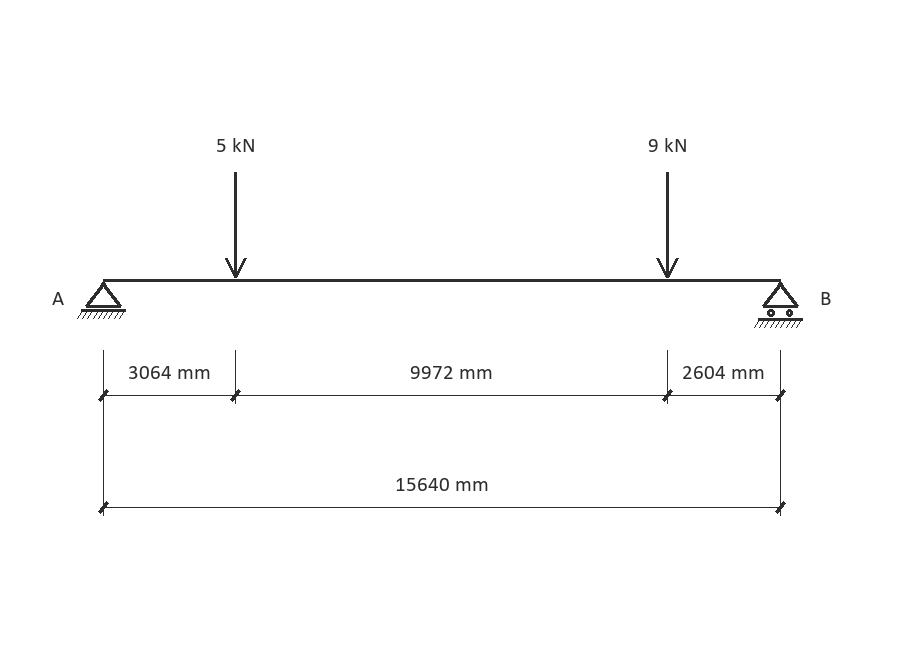pin_support: (77, 282, 126, 319)
point_load: (656, 172, 679, 278), (225, 172, 247, 278)
roller_support: (754, 282, 803, 328)
